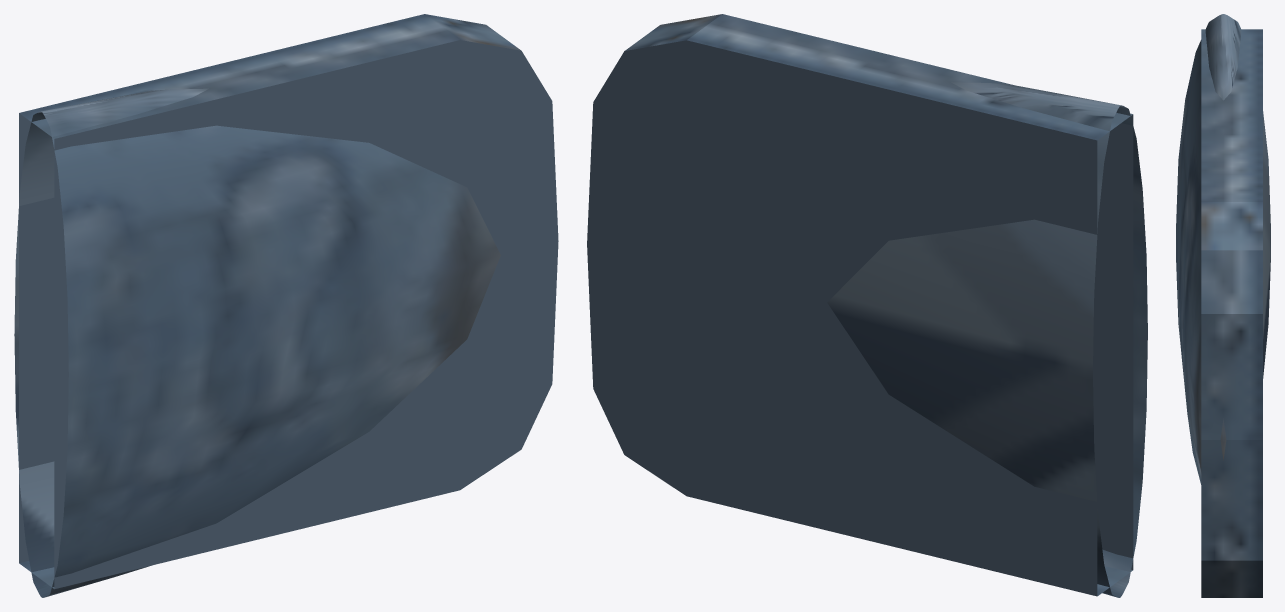
File: section-1.obj
3 renders of one model, left to right at view 1: azimuth 30°, elevation 25°; view 2: azimuth 150°, elevation 25°; view 3: azimuth 270°, elevation 25°, orthographic. The views are drawn at different scales.
Size of the model in its own units: 0.8326 by 0.7549 by 0.1533.
1 material, 1 textured.
